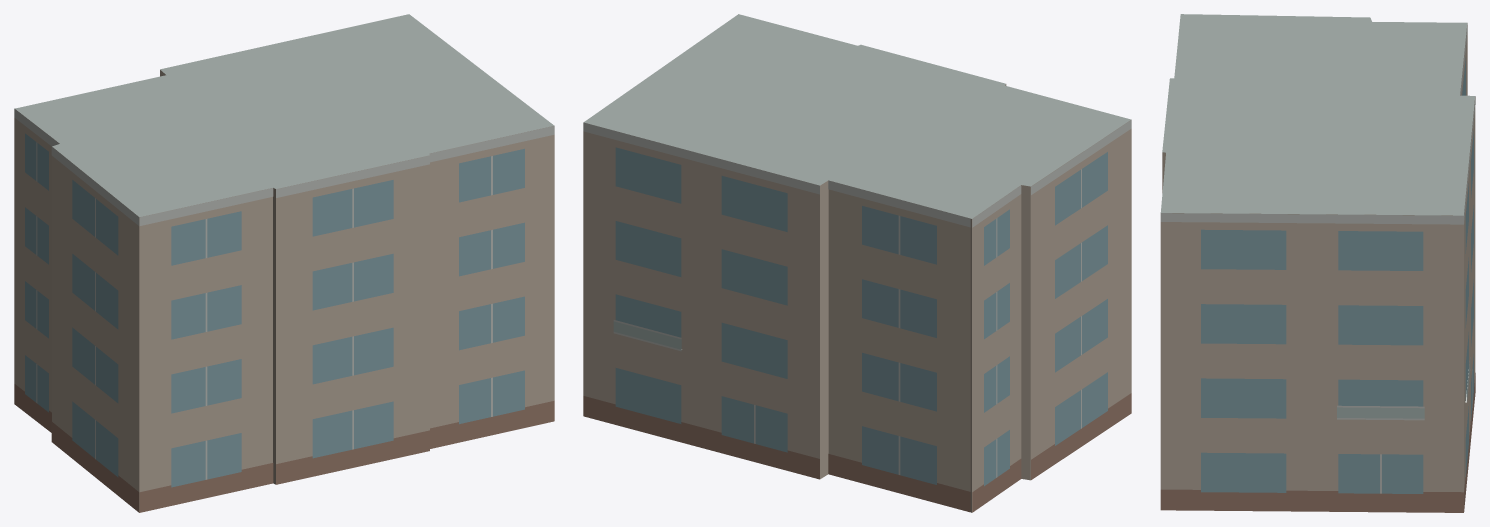
File: survey-upis-32564772.glb
The picture shows the model from 3 angles, left to right: view 1: azimuth 30°, elevation 25°; view 2: azimuth 150°, elevation 25°; view 3: azimuth 270°, elevation 25°; orthographic projection.
Parts seen in each view (by area): view 1: survey-upis-32564772.tmp; view 2: survey-upis-32564772.tmp; view 3: survey-upis-32564772.tmp.
Boxes of the visible parts, left/top/right/bottom form: survey-upis-32564772.tmp: left=14, top=14, right=554, bottom=512; survey-upis-32564772.tmp: left=583, top=14, right=1131, bottom=512; survey-upis-32564772.tmp: left=1160, top=14, right=1475, bottom=512.
Bounding box in the file's own units: 11.65 × 8 × 7.68.
